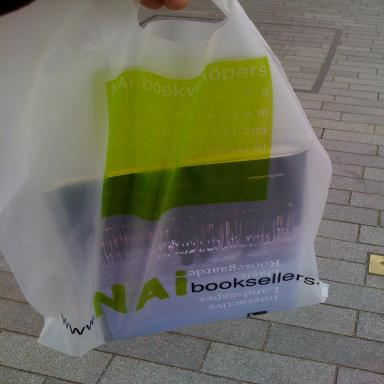plasticbag: (0, 0, 330, 356)
